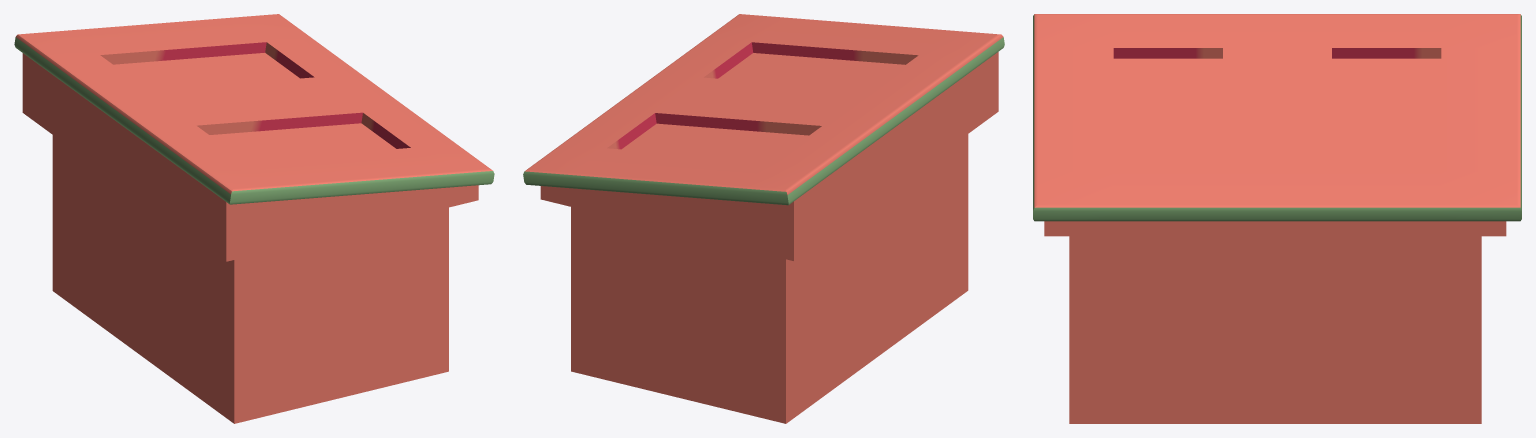
File: GarbageBin_01.fbx
3 renders of one model, left to right at view 1: azimuth 30°, elevation 25°; view 2: azimuth 150°, elevation 25°; view 3: azimuth 270°, elevation 25°, orthographic. The views are drawn at different scales.
Visible parts, largest first — view 1: pCube156; view 2: pCube156; view 3: pCube156.
Boxes of the visible parts, x1=… form: pCube156: x1=14, y1=14, x2=494, y2=423; pCube156: x1=523, y1=14, x2=1004, y2=423; pCube156: x1=1033, y1=14, x2=1521, y2=423.
Size of the model in its own units: 0.997 by 0.8962 by 1.41.
Materials: 1 (1 with a texture image).
